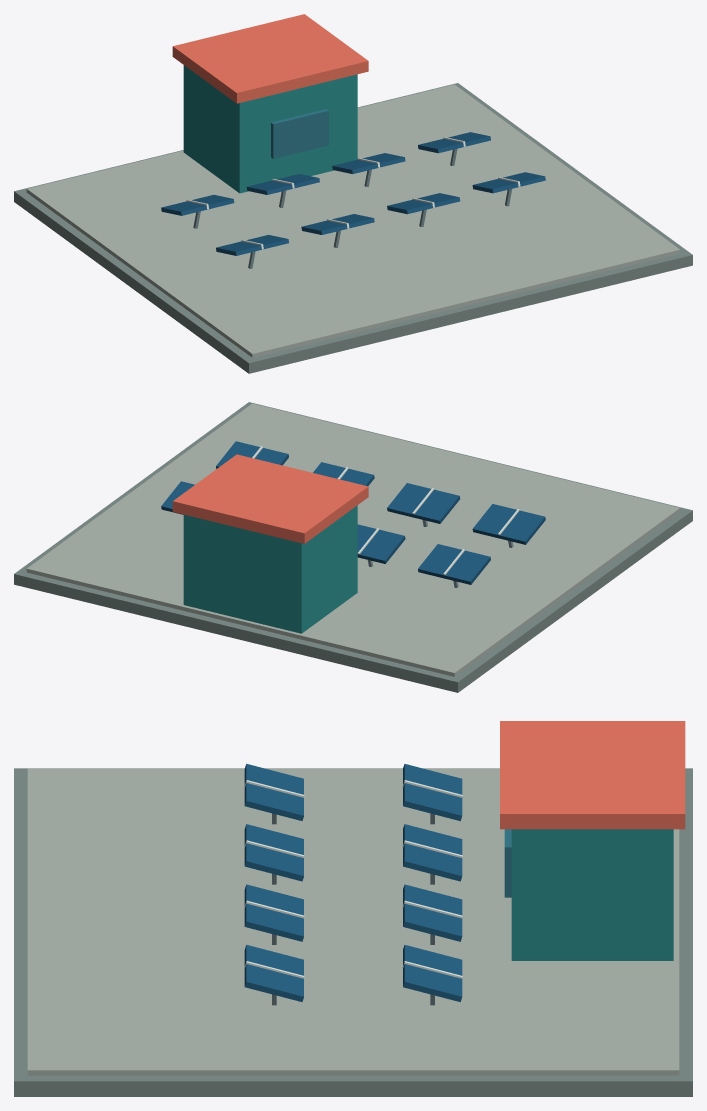
The model's file is solar_lv2.glb.
3 renders of one model, top to bottom at view 1: azimuth 30°, elevation 25°; view 2: azimuth 150°, elevation 25°; view 3: azimuth 270°, elevation 25°, orthographic. The views are drawn at different scales.
Visible parts, largest first — view 1: concrete, teal, pavement, coral, solar, glassDark, steel, white; view 2: concrete, teal, pavement, coral, solar, white; view 3: concrete, pavement, teal, coral, solar, white.
Boxes of the visible parts, x1=… form: concrete: x1=26, y1=84, x2=680, y2=357; teal: x1=183, y1=65, x2=357, y2=193; pavement: x1=14, y1=83, x2=692, y2=373; coral: x1=172, y1=14, x2=368, y2=103; solar: x1=161, y1=132, x2=545, y2=255; glassDark: x1=271, y1=109, x2=328, y2=158; steel: x1=193, y1=148, x2=512, y2=268; white: x1=186, y1=137, x2=520, y2=249; concrete: x1=26, y1=403, x2=680, y2=676; teal: x1=183, y1=505, x2=357, y2=633; pavement: x1=14, y1=402, x2=692, y2=692; coral: x1=172, y1=454, x2=368, y2=543; solar: x1=161, y1=441, x2=545, y2=584; white: x1=252, y1=446, x2=519, y2=575; concrete: x1=27, y1=768, x2=679, y2=1075; pavement: x1=14, y1=768, x2=692, y2=1096; teal: x1=511, y1=829, x2=673, y2=960; coral: x1=500, y1=721, x2=685, y2=829; solar: x1=244, y1=763, x2=462, y2=1002; white: x1=244, y1=780, x2=462, y2=978.
Size of the model in its own units: 9.6 by 2.47 by 8.8.
